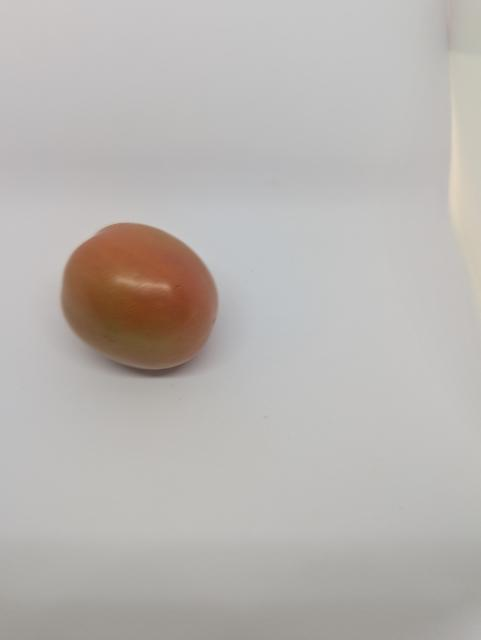turning: (58, 220, 228, 373)
